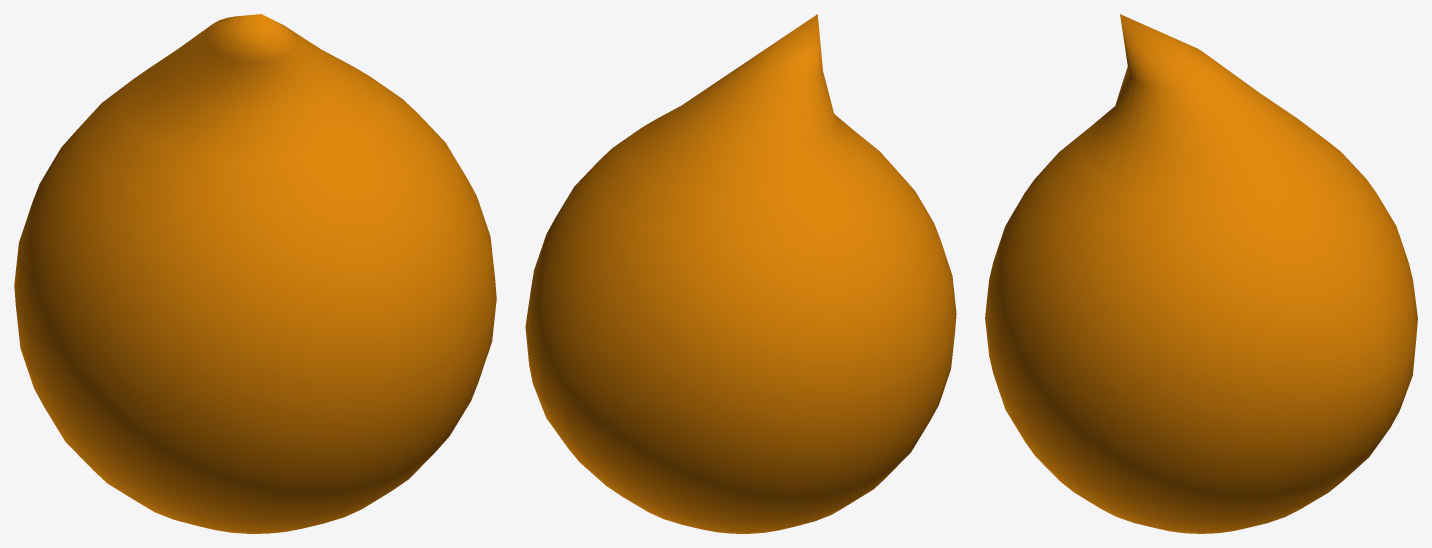
File: FIREBALL.fbx
3 views of the same model, side by side, from view 1: azimuth 30°, elevation 25°; view 2: azimuth 150°, elevation 25°; view 3: azimuth 270°, elevation 25° (orthographic). The views are drawn at different scales.
Parts seen in each view (by area): view 1: Sphere; view 2: Sphere; view 3: Sphere.
Boxes of the visible parts, <box> form: Sphere: <box>14,14,496,533</box>; Sphere: <box>525,14,956,533</box>; Sphere: <box>985,14,1417,533</box>.
Size of the model in its own units: 200 by 247 by 200.
